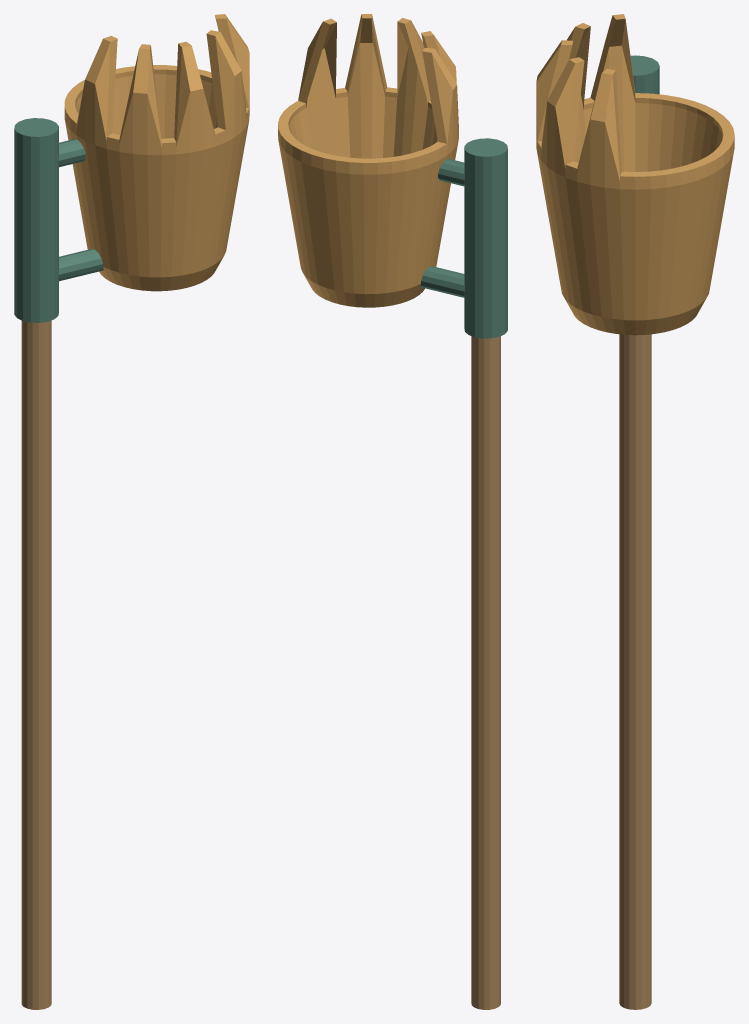
3 views of the same model, side by side, from view 1: azimuth 30°, elevation 25°; view 2: azimuth 150°, elevation 25°; view 3: azimuth 270°, elevation 25° (orthographic). The views are drawn at different scales.
Visible parts, largest first — view 1: WholeHollowCollectionCupAndInwardReturningCrown, WholeLongWoodenPole, WholeHighPoleMountingSleeve, LowerWholeCupSupport, UpperWholeCupSupport; view 2: WholeHollowCollectionCupAndInwardReturningCrown, WholeLongWoodenPole, WholeHighPoleMountingSleeve, LowerWholeCupSupport, UpperWholeCupSupport; view 3: WholeHollowCollectionCupAndInwardReturningCrown, WholeLongWoodenPole, WholeHighPoleMountingSleeve.
Part boxes in pixels (x1=…): WholeHollowCollectionCupAndInwardReturningCrown: x1=64, y1=14, x2=249, y2=291; WholeLongWoodenPole: x1=21, y1=320, x2=51, y2=1009; WholeHighPoleMountingSleeve: x1=14, y1=118, x2=58, y2=322; LowerWholeCupSupport: x1=58, y1=248, x2=103, y2=281; UpperWholeCupSupport: x1=58, y1=139, x2=85, y2=167; WholeHollowCollectionCupAndInwardReturningCrown: x1=278, y1=14, x2=458, y2=307; WholeLongWoodenPole: x1=471, y1=336, x2=500, y2=1009; WholeHighPoleMountingSleeve: x1=464, y1=138, x2=507, y2=338; LowerWholeCupSupport: x1=420, y1=266, x2=464, y2=297; UpperWholeCupSupport: x1=438, y1=158, x2=464, y2=186; WholeHollowCollectionCupAndInwardReturningCrown: x1=536, y1=14, x2=734, y2=335; WholeLongWoodenPole: x1=619, y1=334, x2=651, y2=1009; WholeHighPoleMountingSleeve: x1=630, y1=55, x2=659, y2=94.
Bounding box in the file's own units: 0.384 × 1.59 × 0.28.
